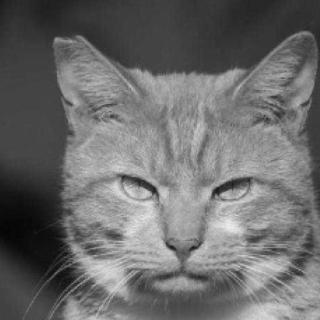cat: (46, 28, 320, 309)
nose: (165, 228, 203, 259)
